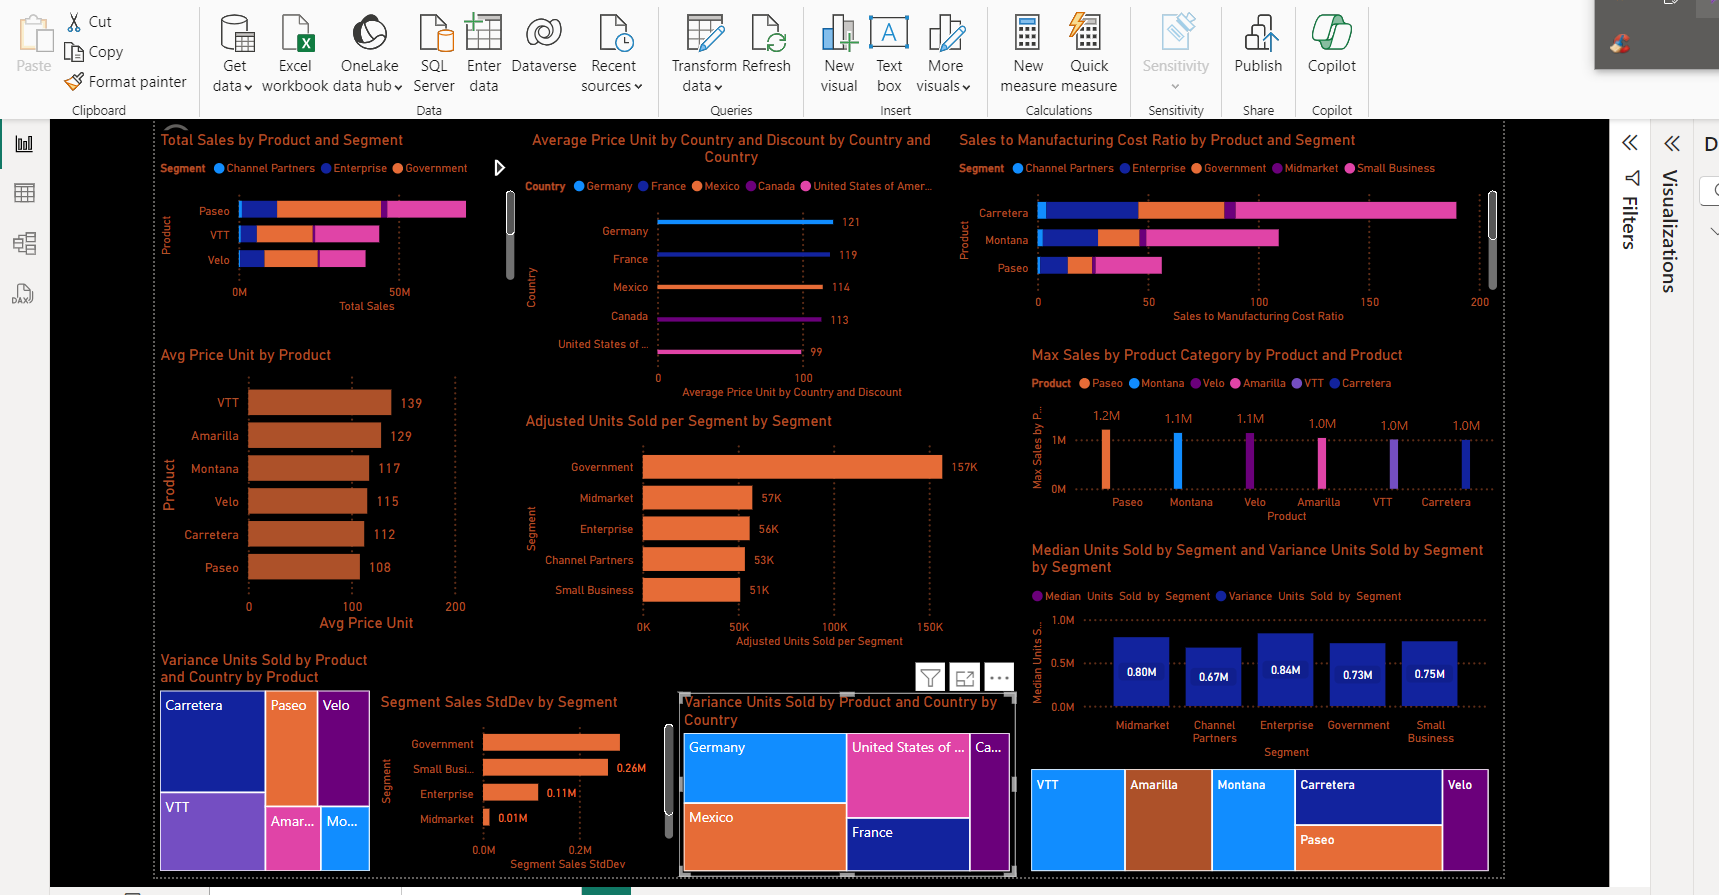

The dashboard page shown, as its layout file describes it:
{"tool":"powerbi","page":{"name":"Aggregate Functions","canvas":[1280,720],"ordinal":0},"visuals":[{"type":"actionButton","box":[0,0,100,40],"z":0},{"type":"barChart","fields":{"Category":["daxDashboard-dataset.Product"],"Series":["daxDashboard-dataset.Segment"],"Y":["daxDashboard-dataset.Total Sales"]},"box":[0,10.7,346.7,178.1],"z":1000},{"type":"barChart","fields":{"Category":["daxDashboard-dataset.Product"],"Y":["daxDashboard-dataset.Avg Price Unit"]},"box":[0,214.9,328.9,276.7],"z":2000},{"type":"clusteredBarChart","fields":{"Y":["daxDashboard-dataset.Average Price Unit by Country and Discount"],"Category":["daxDashboard-dataset.Country"],"Series":["daxDashboard-dataset.Country"]},"box":[346.7,10.7,401.3,260],"z":3000},{"type":"treemap","fields":{"Values":["daxDashboard-dataset.Profit per Unit"],"Group":["daxDashboard-dataset.Product"]},"box":[827.6,596.1,444.1,123.5],"z":4000},{"type":"treemap","fields":{"Values":["daxDashboard-dataset.Variance Units Sold by Product and Country"],"Group":["daxDashboard-dataset.Country"]},"box":[497.5,545,319.4,174.5],"z":5000},{"type":"treemap","fields":{"Values":["daxDashboard-dataset.Variance Units Sold by Product and Country"],"Group":["daxDashboard-dataset.Product"]},"box":[0,504.6,209,214.9],"z":6000},{"type":"barChart","fields":{"Category":["daxDashboard-dataset.Segment"],"Y":["daxDashboard-dataset.Adjusted Units Sold per Segment"]},"box":[346.7,277.8,470.2,229.2],"z":7000},{"type":"barChart","fields":{"Category":["daxDashboard-dataset.Product"],"Y":["daxDashboard-dataset.Sales  to  Manufacturing  Cost  Ratio"],"Series":["daxDashboard-dataset.Segment"]},"box":[758.7,10.7,521.2,187.6],"z":8000},{"type":"clusteredBarChart","fields":{"Category":["daxDashboard-dataset.Segment"],"Y":["daxDashboard-dataset.Segment  Sales  StdDev"]},"box":[209,545,288.5,174.5],"z":9000},{"type":"clusteredColumnChart","fields":{"Category":["daxDashboard-dataset.Product"],"Y":["daxDashboard-dataset.Max Sales by Product Category"],"Series":["daxDashboard-dataset.Product"]},"box":[827.6,214.9,452.4,173.4],"z":10000},{"type":"columnChart","fields":{"Y":["daxDashboard-dataset.Median  Units  Sold  by  Segment","daxDashboard-dataset.Variance  Units  Sold  by  Segment"],"Category":["daxDashboard-dataset.Segment"]},"box":[827.6,400.1,444.1,212.5],"z":11000}]}

Visuals, with their boxes on the page's 1280x720 design canvas (x1, y1, x2, y2). These are canvas units, not pixel positions in the 1719x895 screenshot, which may show the page scaled, cropped or inside an application window:
actionButton: (0,0,100,40)
barChart - daxDashboard-dataset.Product x daxDashboard-dataset.Segment: (0,11,347,189)
barChart - daxDashboard-dataset.Product x daxDashboard-dataset.Avg Price Unit: (0,215,329,492)
clusteredBarChart - daxDashboard-dataset.Average Price Unit by Country and Discount x daxDashboard-dataset.Country: (347,11,748,271)
treemap - daxDashboard-dataset.Profit per Unit x daxDashboard-dataset.Product: (828,596,1272,720)
treemap - daxDashboard-dataset.Variance Units Sold by Product and Country x daxDashboard-dataset.Country: (498,545,817,720)
treemap - daxDashboard-dataset.Variance Units Sold by Product and Country x daxDashboard-dataset.Product: (0,505,209,720)
barChart - daxDashboard-dataset.Segment x daxDashboard-dataset.Adjusted Units Sold per Segment: (347,278,817,507)
barChart - daxDashboard-dataset.Product x daxDashboard-dataset.Sales  to  Manufacturing  Cost  Ratio: (759,11,1280,198)
clusteredBarChart - daxDashboard-dataset.Segment x daxDashboard-dataset.Segment  Sales  StdDev: (209,545,498,720)
clusteredColumnChart - daxDashboard-dataset.Product x daxDashboard-dataset.Max Sales by Product Category: (828,215,1280,388)
columnChart - daxDashboard-dataset.Median  Units  Sold  by  Segment x daxDashboard-dataset.Variance  Units  Sold  by  Segment: (828,400,1272,613)
